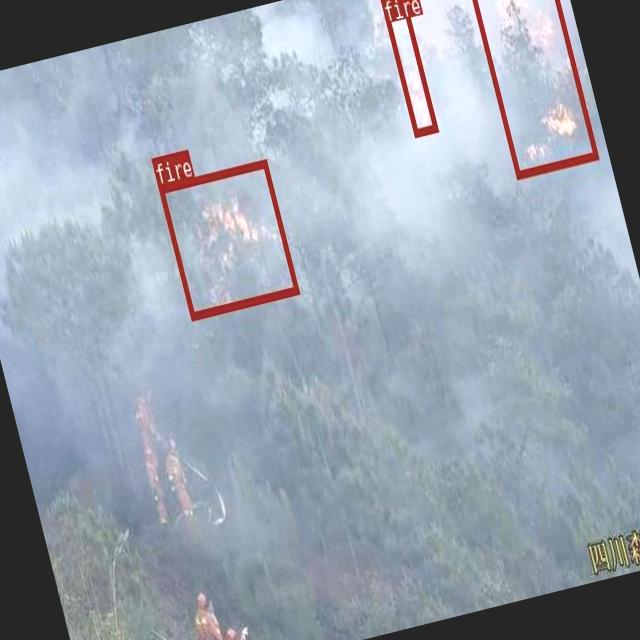fire: (462, 0, 597, 177), (156, 158, 298, 319), (378, 0, 436, 134)
